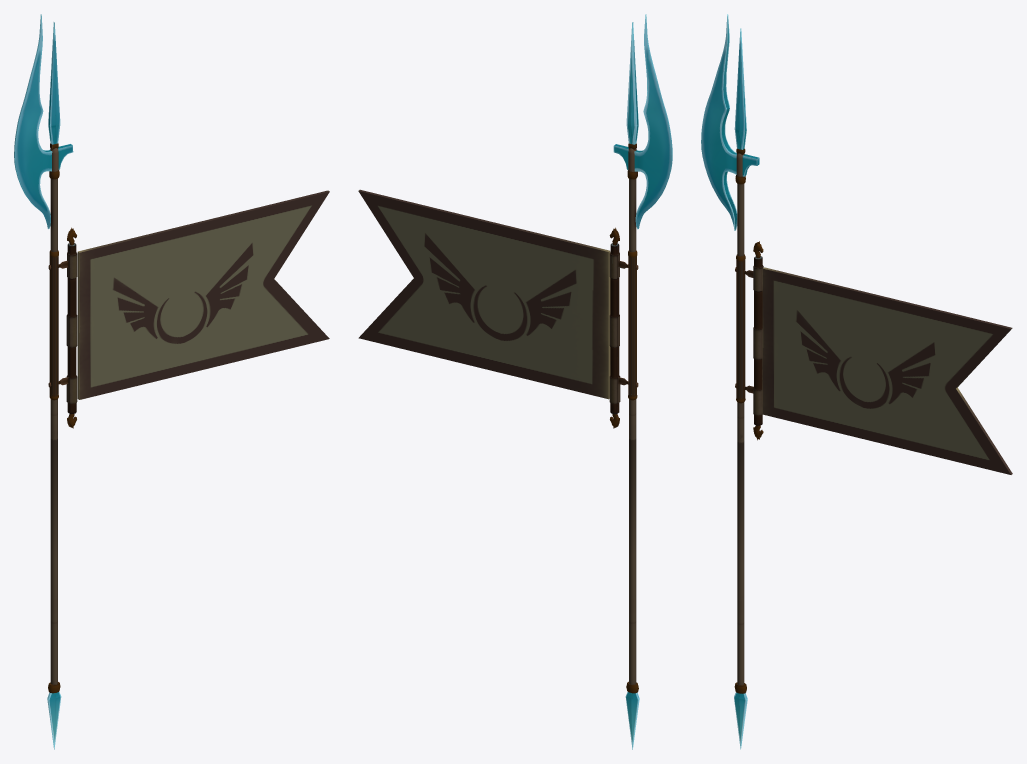
3 renders of one model, left to right at view 1: azimuth 30°, elevation 25°; view 2: azimuth 150°, elevation 25°; view 3: azimuth 330°, elevation 25°, orthographic.
Parts seen in each view (by area): view 1: Cube, Plane.005_low, Plane.005_low.002; view 2: Cube, Plane.005_low, Plane.005_low.002; view 3: Cube, Plane.005_low, Plane.005_low.002.
Boxes of the visible parts, x1,y1,x2,y2 form: Cube: [77, 190, 329, 399]; Plane.005_low: [14, 14, 73, 749]; Plane.005_low.002: [58, 227, 77, 428]; Cube: [358, 189, 610, 399]; Plane.005_low: [613, 14, 672, 749]; Plane.005_low.002: [609, 227, 628, 428]; Cube: [762, 267, 1012, 474]; Plane.005_low: [701, 14, 759, 749]; Plane.005_low.002: [744, 241, 763, 440].
Size of the model in its own units: 188 by 423 by 5.51.
2 materials, 2 textured.
